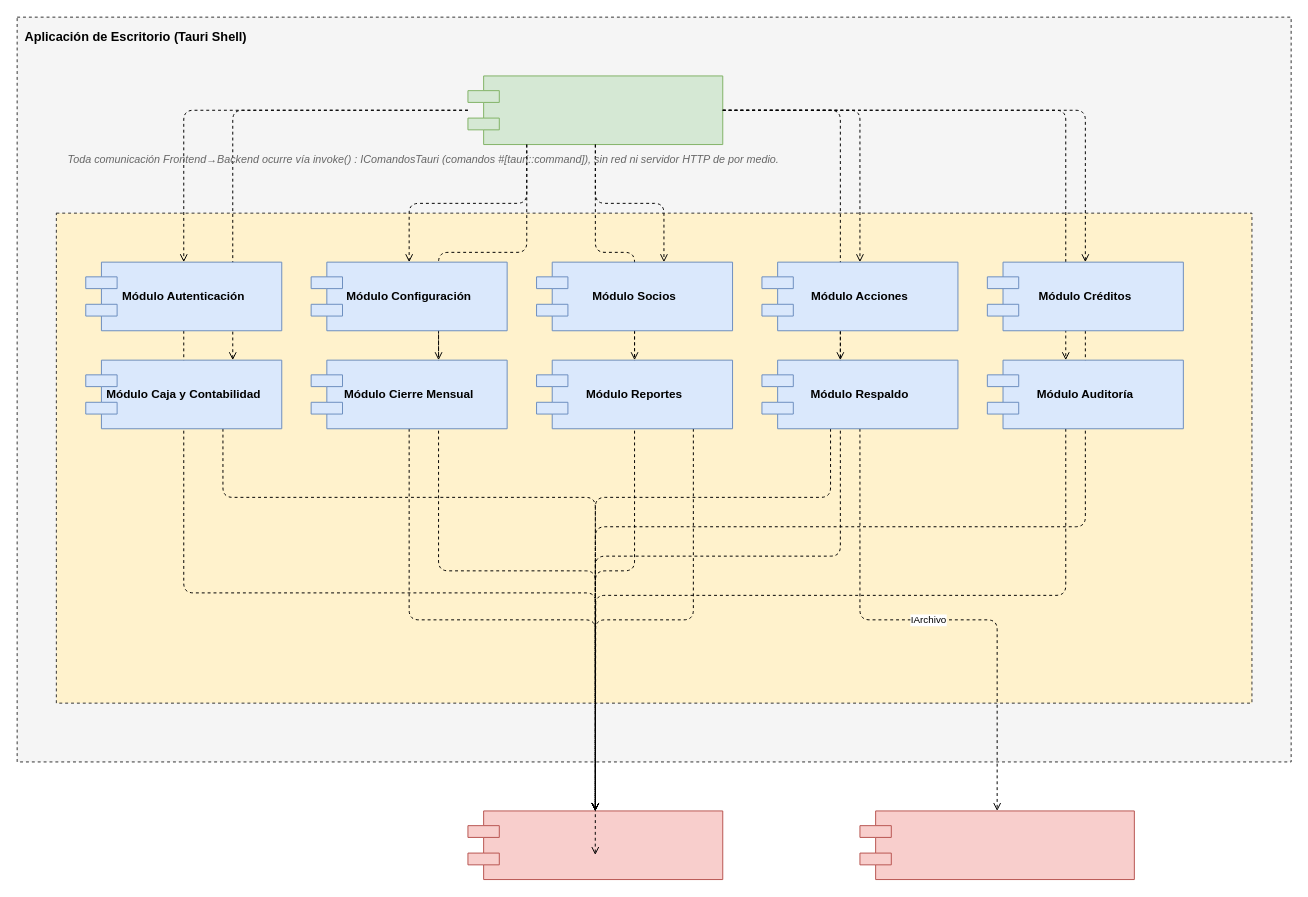
This 1308x897 diagram has some shape labels left out. The shapes that lost their labels are listed below. From the top down, each one's box as (x1, y1, x2, y2) in pixels, then its label:
(467, 75, 723, 145): Frontend - React (UI, Presentación)
(55, 212, 1252, 703): Backend - Rust
(467, 810, 723, 880): Persistencia SQLite (por Bankomunal)
(859, 810, 1134, 880): Sistema de Archivos (Respaldo/Restauración)
